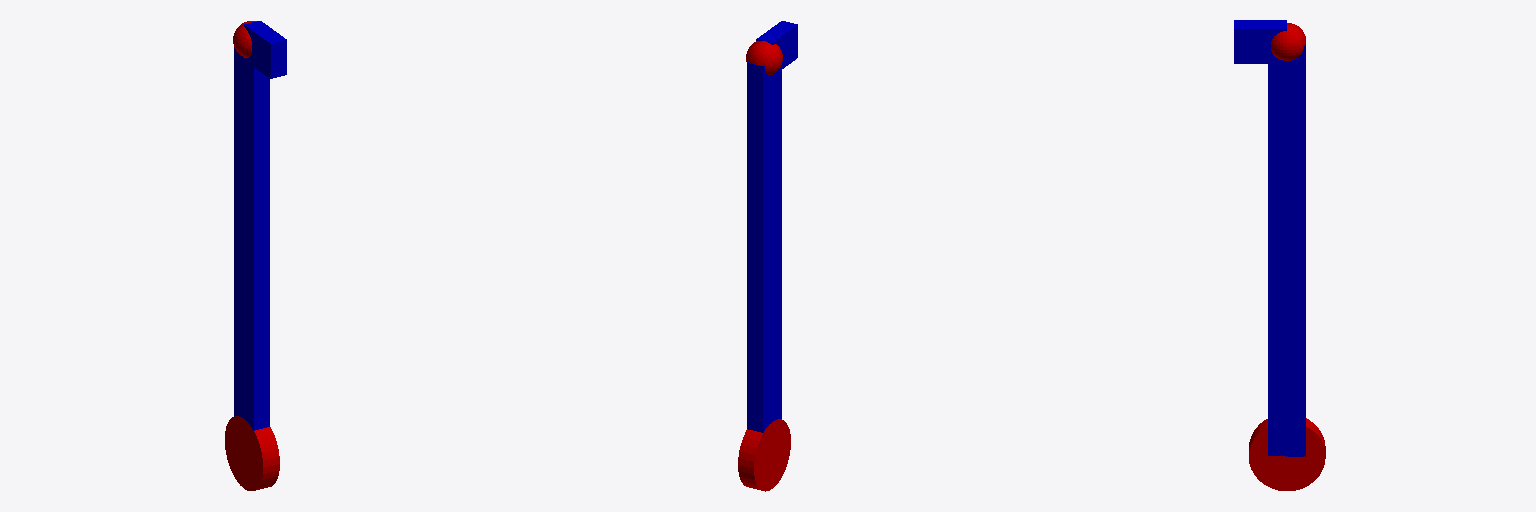
robot.urdf — TwoLinkStruct2705082430:
<?xml version="1.0"?>
<robot  name="TwoLinkStruct2705082430" >
 <material  name="blue" >
  <color  rgba="0 0 0.8 1.0" />
 </material>
 <material  name="red" >
  <color  rgba="0.8 0 0 1.0" />
 </material>
 <link  name="base_link" >
  <visual >
   <origin  rpy="0 1.5707 0"  xyz="0 0 0" />
   <material  name="red" />
   <geometry >
    <cylinder  length="0.05"  radius="0.1" />
   </geometry>
  </visual>
 </link>
 <joint  type="revolute"  name="joint1" >
  <parent  link="base_link" />
  <child  link="link1" />
  <origin  xyz="0 0 0"  rpy="0 0 0" />
  <axis  xyz="1 0 0" />
 </joint>
 <link  name="link1" >
  <inertial >
   <origin  rpy="0 0 0"  xyz="0 0 0.5881698679202884" />
   <mass  value="5.188642474543487" />
   <inertia  ixy="0.0"  iyy="0.0021619343643931197"  izz="0.599407187485926"  ixz="0.0"  ixx="0.599407187485926"  iyz="0.0" />
  </inertial>
  <visual >
   <origin  rpy="0 0 0"  xyz="0 0 0.5881698679202884" />
   <material  name="blue" />
   <geometry >
    <box  size="0.05 0.1 1.1763397358405767" />
   </geometry>
  </visual>
 </link>
 <joint  type="fixed"  name="joint-joint-1" >
  <parent  link="link1" />
  <child  link="joint-link-1" />
  <origin  xyz="0 0 1.1763397358405767"  rpy="1.5707 0 0" />
  <axis  xyz="1 0 0" />
 </joint>
 <link  name="joint-link-1" >
  <inertial >
   <origin  rpy="0 0 0"  xyz="0 0 0" />
   <mass  value="4.832252232723906" />
   <inertia  ixy="0"  iyy="0"  izz="0"  ixz="0"  ixx="0"  iyz="0" />
  </inertial>
  <visual >
   <origin  rpy="0 0 0"  xyz="0 0 0" />
   <material  name="red" />
   <geometry >
    <sphere  radius="0.05" />
   </geometry>
  </visual>
 </link>
 <joint  type="revolute"  name="joint2" >
  <parent  link="link1" />
  <child  link="link2" />
  <origin  xyz="0 0 1.1763397358405767"  rpy="1.5707 0 0" />
  <axis  xyz="1 0 0" />
 </joint>
 <link  name="link2" >
  <inertial >
   <origin  rpy="0 0 0"  xyz="0 0 0.06875911923634316" />
   <mass  value="0.1152710706764705" />
   <inertia  ixy="0.0"  iyy="0.0021619343643931197"  izz="0.00925795031233503"  ixz="0.0"  ixx="0.00925795031233503"  iyz="0.0" />
  </inertial>
  <visual >
   <origin  rpy="0 0 0"  xyz="0 0 0.06875911923634316" />
   <material  name="blue" />
   <geometry >
    <box  size="0.05 0.1 0.13751823847268632" />
   </geometry>
  </visual>
 </link>
 <joint  type="fixed"  name="eef_joint" >
  <parent  link="link2" />
  <child  link="eef" />
  <origin  xyz="0 0 0.13751823847268632"  rpy="0 0 0" />
 </joint>
 <link  name="eef" >
  <inertial >
   <origin  rpy="0 0 0"  xyz="0 0 0" />
   <mass  value="1" />
   <inertia  ixy="0"  iyy="0"  izz="0"  ixz="0"  ixx="0"  iyz="0" />
  </inertial>
 </link>
 <transmission  name="motor1" >
  <type  xmltext="SimpleTransmission" >
   SimpleTransmission
  </type>
  <actuator  name="motor1" >
   <mechanicalreduction  xmltext="1" >
    1
   </mechanicalreduction>
  </actuator>
  <joint  name="joint1" />
 </transmission>
 <transmission  name="motor2" >
  <type  xmltext="SimpleTransmission" >
   SimpleTransmission
  </type>
  <actuator  name="motor2" >
   <mechanicalreduction  xmltext="1" >
    1
   </mechanicalreduction>
  </actuator>
  <joint  name="joint2" />
 </transmission>
</robot>

<!-- {'carti': array([-0.1 ,  0.14,  0.85]), 'cartd': array([-0.1 ,  0.32,  1.29]), 'tau_mu': 0.6095438439426314, 'b0': 0.4861235326314043, 'Km': 0.12346914515285114, 'k_velocity': 98.70294240444792, 'tau_max_m': 4.206435816975819, 'omega_max_m': 3750.289411795123, 'gear_ratio': 17.159883906607885, 'Kp': 30.156439393366185, 'Kd': 57.584088105791274, 'm_m': 4.832252232723906, 'l1': 1.1763397358405767, 'l2': 0.13751823847268632, 'k1': 16856.40566656823, 'k2': 37546270.056277215, 'k3': 96228378.75151753}-->

--- Facts derived from the render (not from the file) ---
The picture shows the robot from 3 angles, left to right: view 1: azimuth 30°, elevation 25°; view 2: azimuth 150°, elevation 25°; view 3: azimuth 270°, elevation 25°; orthographic projection.
Robot: TwoLinkStruct2705082430 — 5 links, 4 joints (2 revolute, 2 fixed); root link base_link; default pose: every joint at zero.
Visible links, largest first — view 1: link1, base_link, link2; view 2: link1, base_link, link2, joint-link-1; view 3: link1, base_link, link2, joint-link-1.
Link boxes in pixels (x1,y1,x2,y2): link1: [234, 47, 269, 430]; base_link: [225, 416, 279, 490]; link2: [244, 21, 286, 78]; link1: [747, 62, 781, 432]; base_link: [738, 419, 790, 491]; link2: [756, 21, 797, 75]; joint-link-1: [746, 41, 782, 74]; link1: [1268, 44, 1305, 456]; base_link: [1249, 418, 1325, 490]; link2: [1234, 20, 1286, 63]; joint-link-1: [1271, 23, 1305, 60].
Size in the robot's own frame: 0.1 by 0.2375 by 1.33 metres.
Geometry: primitives only (box / cylinder / sphere), no mesh files.
